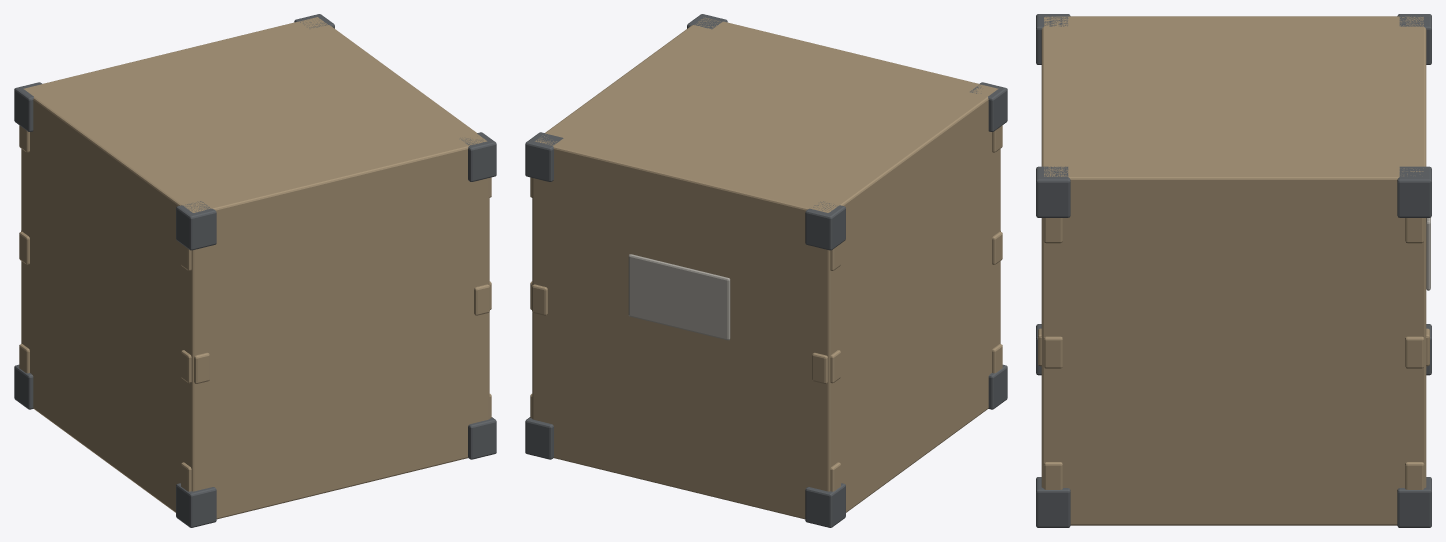
The model's file is crate_1.fbx.
3 views of the same model, side by side, from view 1: azimuth 30°, elevation 25°; view 2: azimuth 150°, elevation 25°; view 3: azimuth 270°, elevation 25° (orthographic). The views are drawn at different scales.
Visible parts, largest first — view 1: crate_1; view 2: crate_1; view 3: crate_1.
Part boxes in pixels (x1,y1,x2,y2): crate_1: (14, 14, 496, 527); crate_1: (525, 14, 1007, 527); crate_1: (1036, 14, 1431, 527).
Size of the model in its own units: 1.03 by 1 by 1.03.
